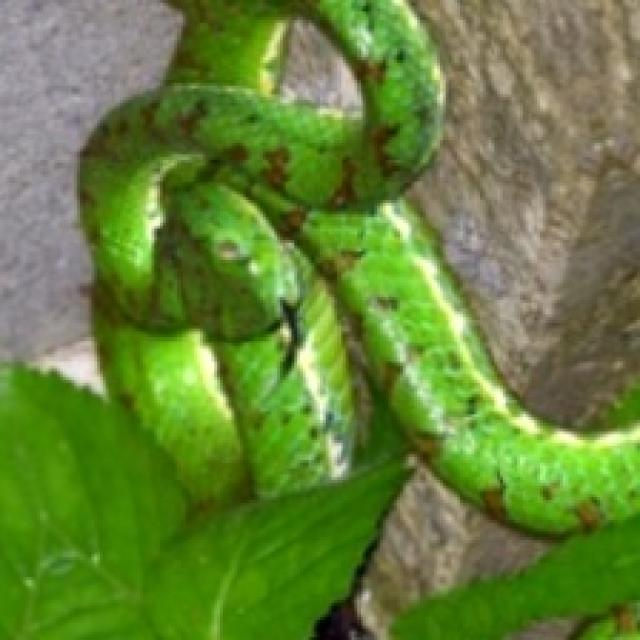philippine pitviper: (80, 0, 637, 534)
